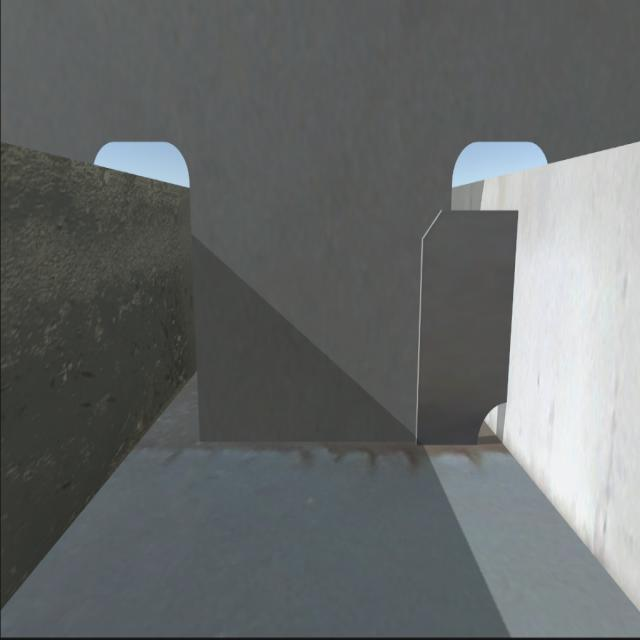fillet_hole: (469, 394, 505, 444)
fillet_yong_jeop_jang: (198, 431, 476, 447), (505, 211, 514, 401)
plate_CP03: (419, 202, 509, 440)
